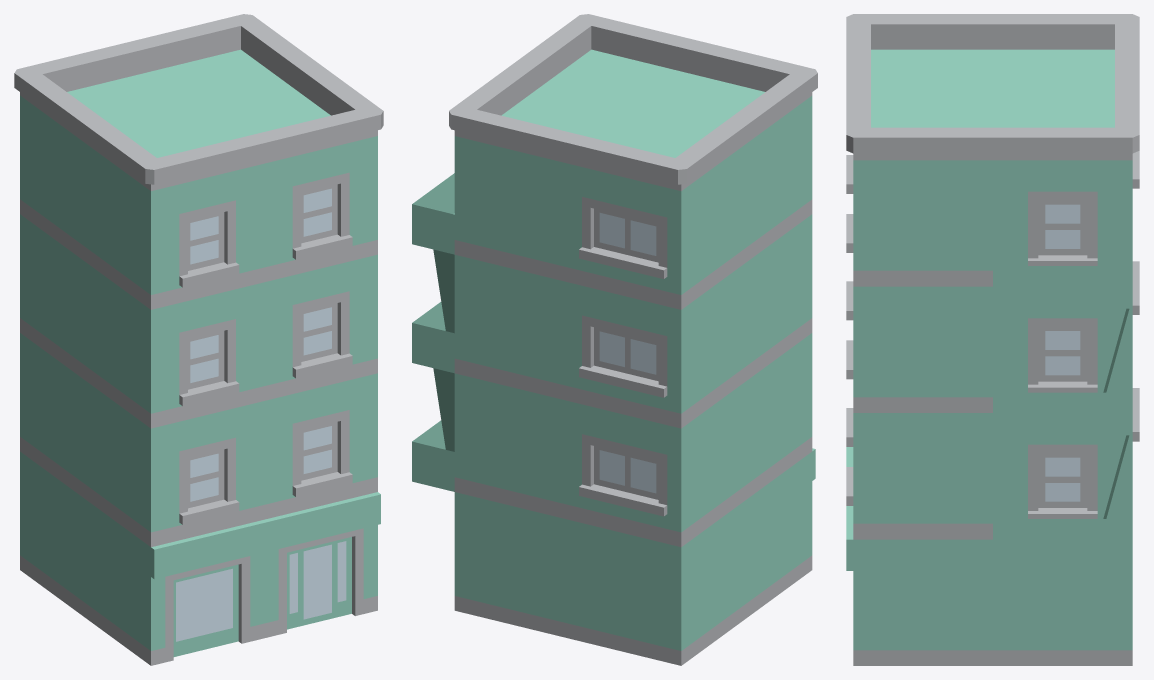
The model's file is large.glb.
3 renders of one model, left to right at view 1: azimuth 30°, elevation 25°; view 2: azimuth 150°, elevation 25°; view 3: azimuth 270°, elevation 25°, orthographic. The views are drawn at different scales.
Parts seen in each view (by area): view 1: large_buildingC; view 2: large_buildingC; view 3: large_buildingC.
Part boxes in pixels (x1,y1,x2,y2): large_buildingC: (14, 14, 383, 665); large_buildingC: (412, 14, 817, 665); large_buildingC: (846, 14, 1139, 665).
Size of the model in its own units: 0.97 by 1.68 by 0.84.
Materials: 2 (1 with a texture image).
